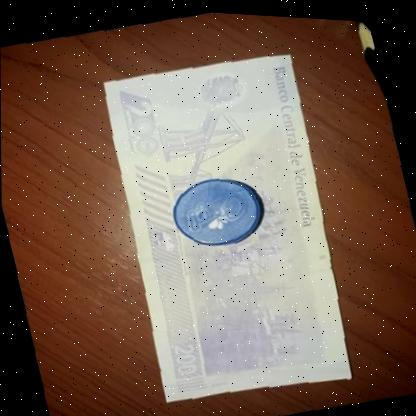two_hundred-back-vef: (84, 33, 372, 416)
